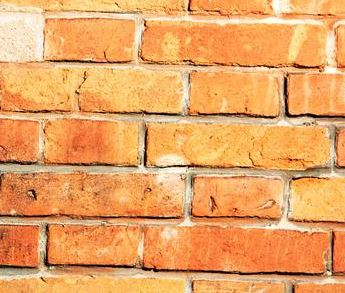brick: (141, 17, 330, 69), (142, 223, 328, 275), (1, 63, 185, 114), (146, 121, 332, 169), (1, 172, 186, 219), (43, 118, 142, 167), (188, 69, 280, 118), (42, 16, 137, 63), (43, 222, 140, 268), (191, 174, 282, 220), (282, 72, 345, 120), (289, 177, 345, 225), (1, 119, 41, 163), (1, 223, 40, 268)
